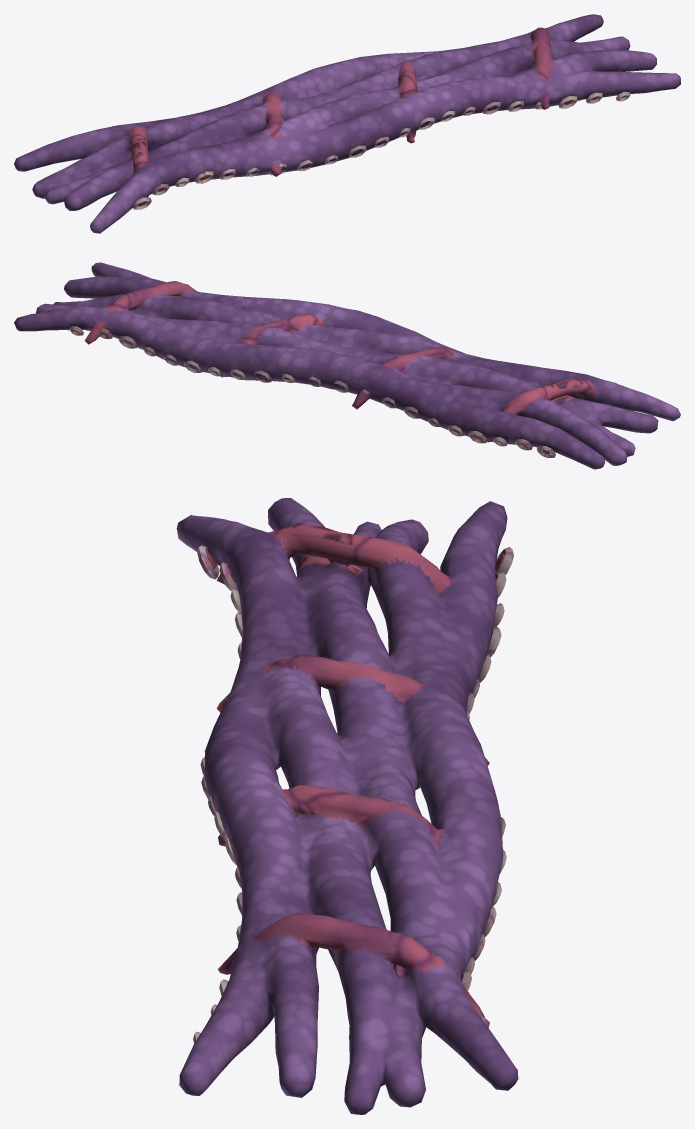
Rendered from puente_tentaculo.fbx.
The picture shows the model from 3 angles, top to bottom: view 1: azimuth 30°, elevation 25°; view 2: azimuth 150°, elevation 25°; view 3: azimuth 270°, elevation 25°; orthographic projection. The views are drawn at different scales.
Visible parts, largest first — view 1: puente; view 2: puente; view 3: puente.
Boxes of the visible parts, box(x1,y1,x2,y2) form: puente: box(14, 14, 680, 233); puente: box(14, 262, 680, 469); puente: box(176, 498, 518, 1114).
Size of the model in its own units: 12.01 by 1.01 by 3.01.
Materials: 1 (1 with a texture image).
